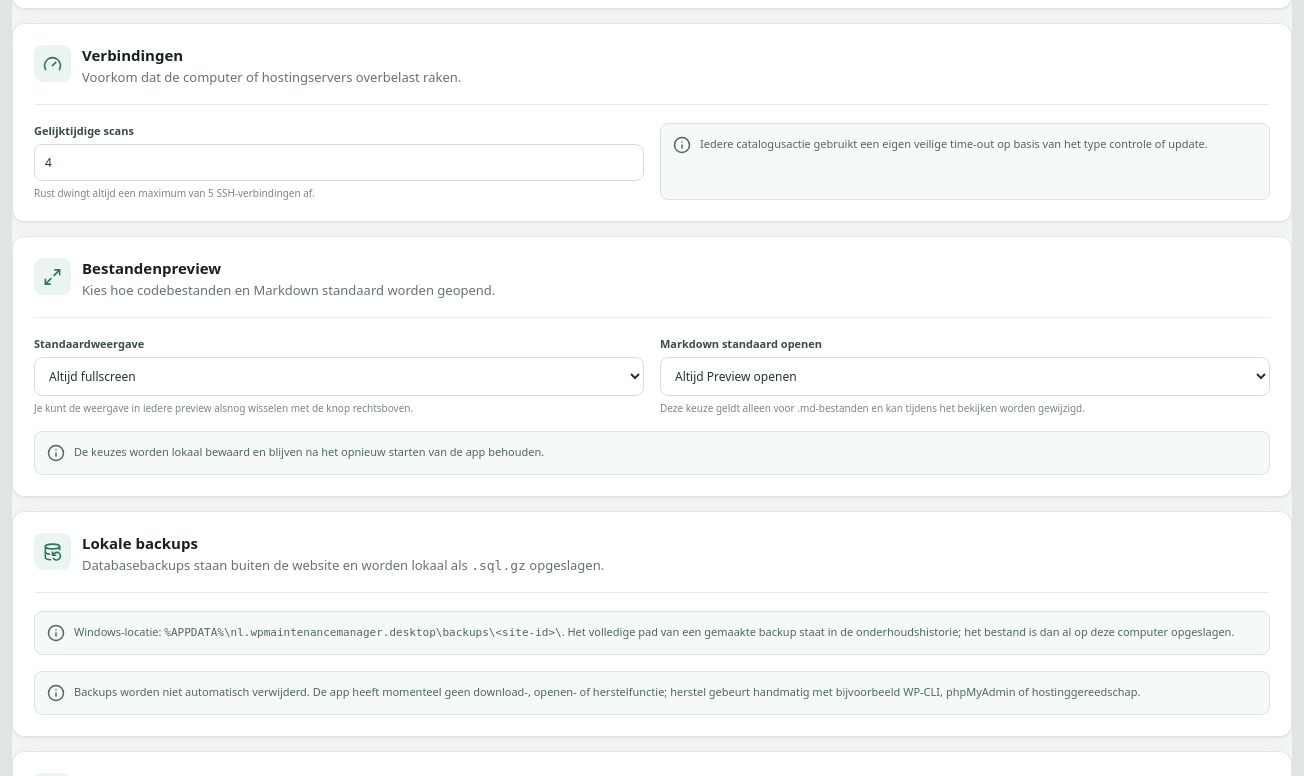
Scenario: SettingsView file preview preference › loads and saves the persistent file and Markdown preview modes
The width and height of the screenshot is (1304, 776).
(page scrolled)
Step 1. Select "Normaal" in the 1st dropdown → (339, 376), box x1=34 y1=357 x2=644 y2=396
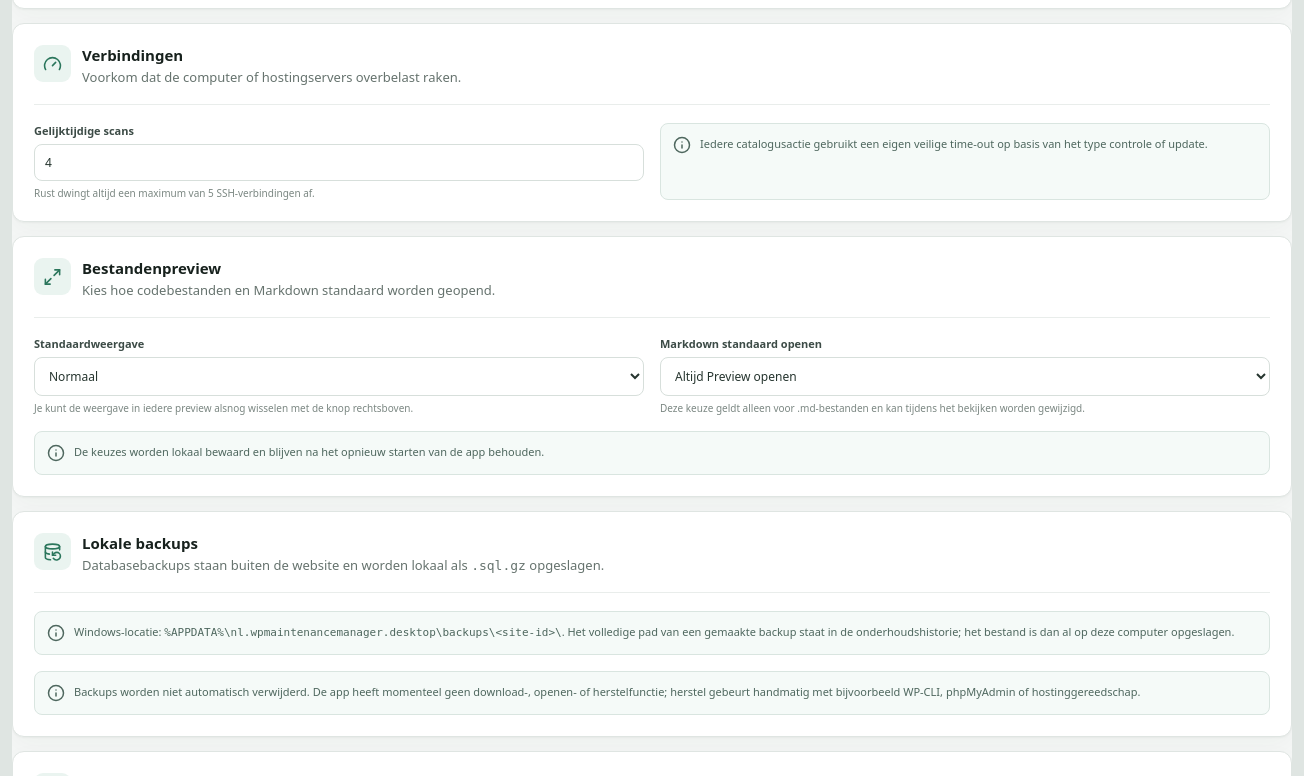
Step 2. Select "Altijd Raw openen" in the 2nd dropdown → (965, 376), box x1=660 y1=357 x2=1270 y2=396
(page scrolled)
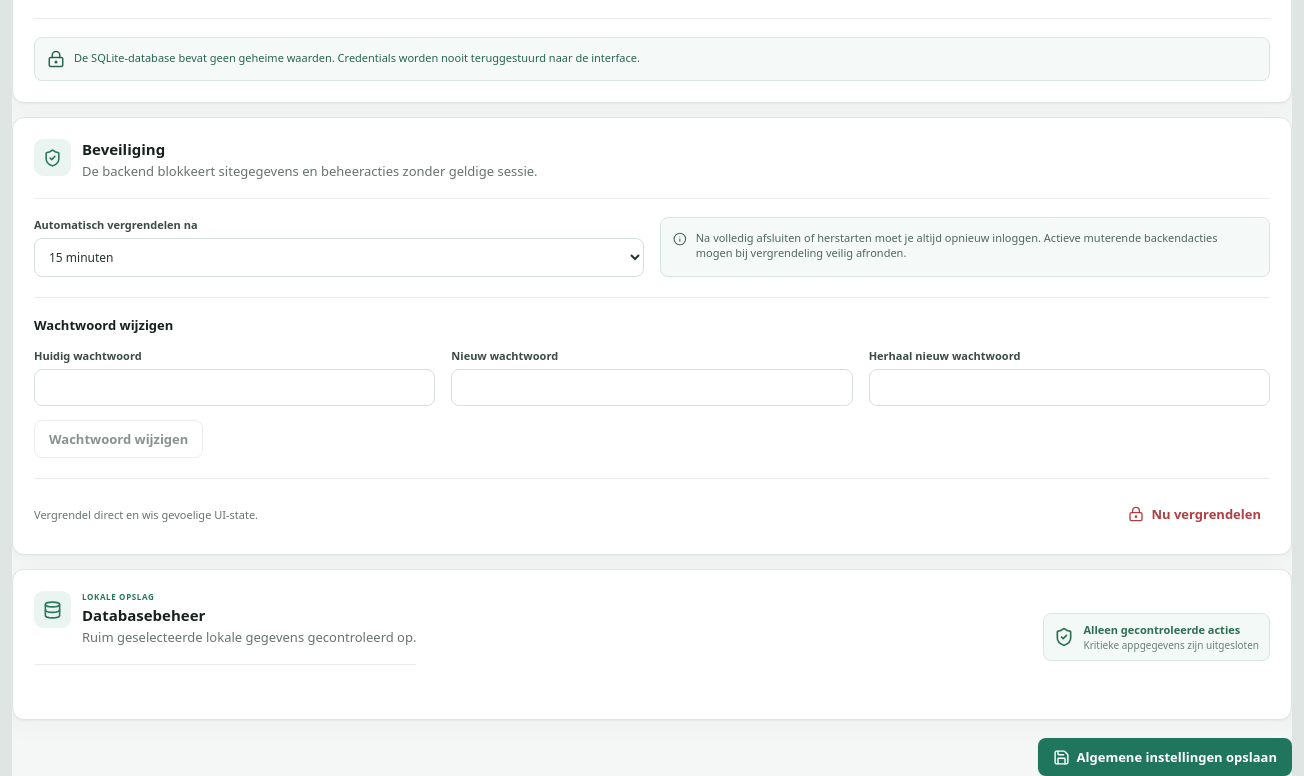
Step 3. Click the button "Algemene instellingen opslaan" → (1165, 757), box x1=1038 y1=738 x2=1292 y2=775
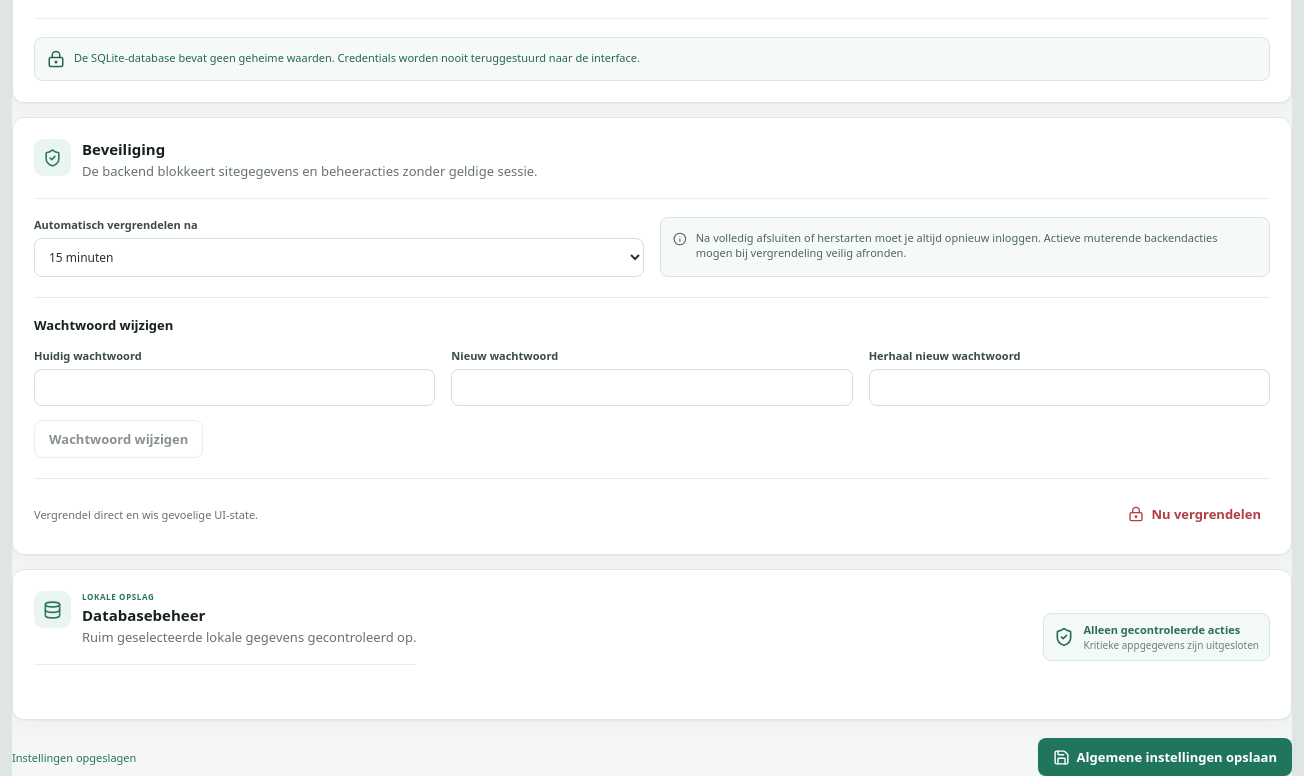
Now the text "Instellingen opgeslagen" is shown, box x1=12 y1=750 x2=136 y2=764
